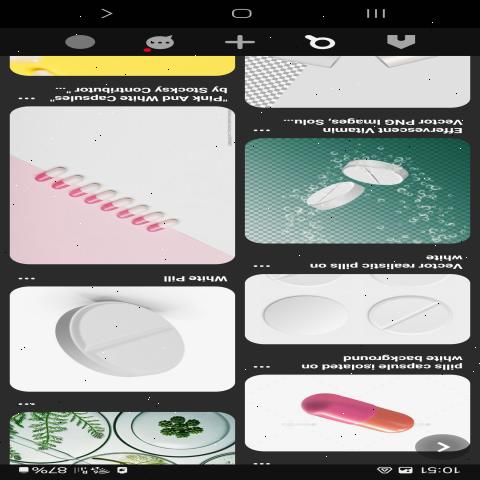Pill: (36, 292, 198, 380), (249, 279, 353, 343), (369, 288, 453, 337), (321, 152, 420, 189), (274, 180, 378, 210)
